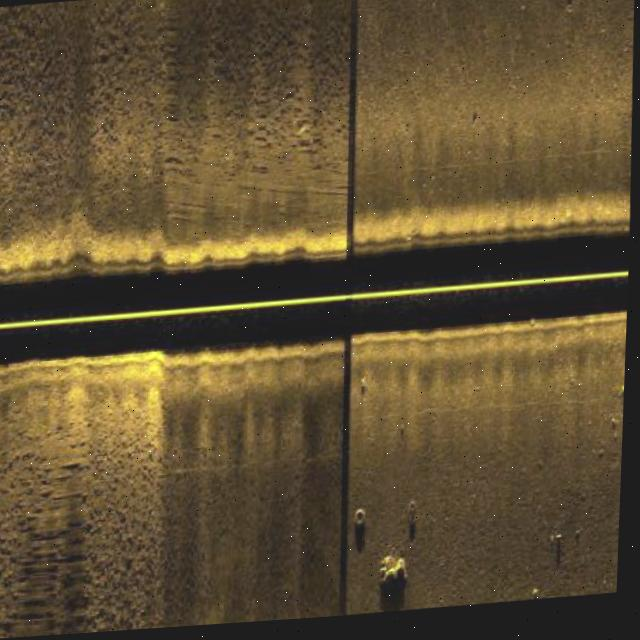other: (385, 551, 413, 594), (355, 500, 375, 532), (410, 501, 426, 515)
